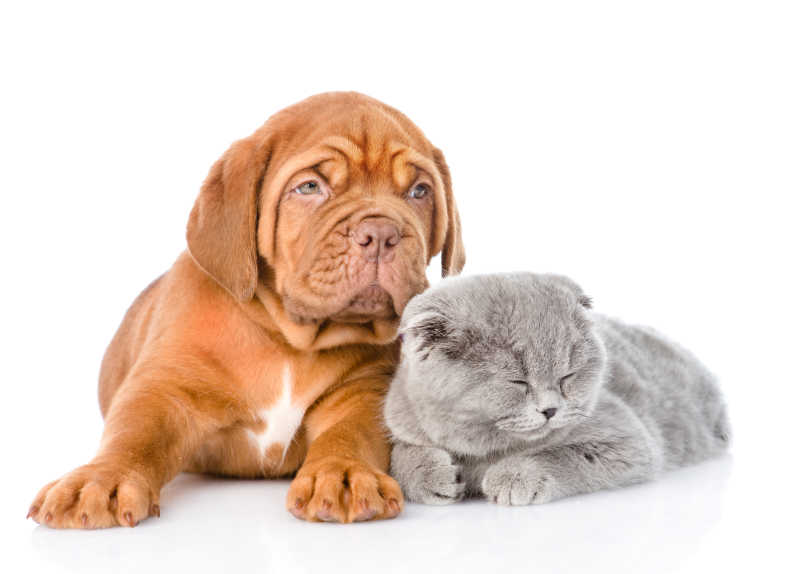cat: (388, 274, 733, 503)
dog: (19, 88, 468, 523)
